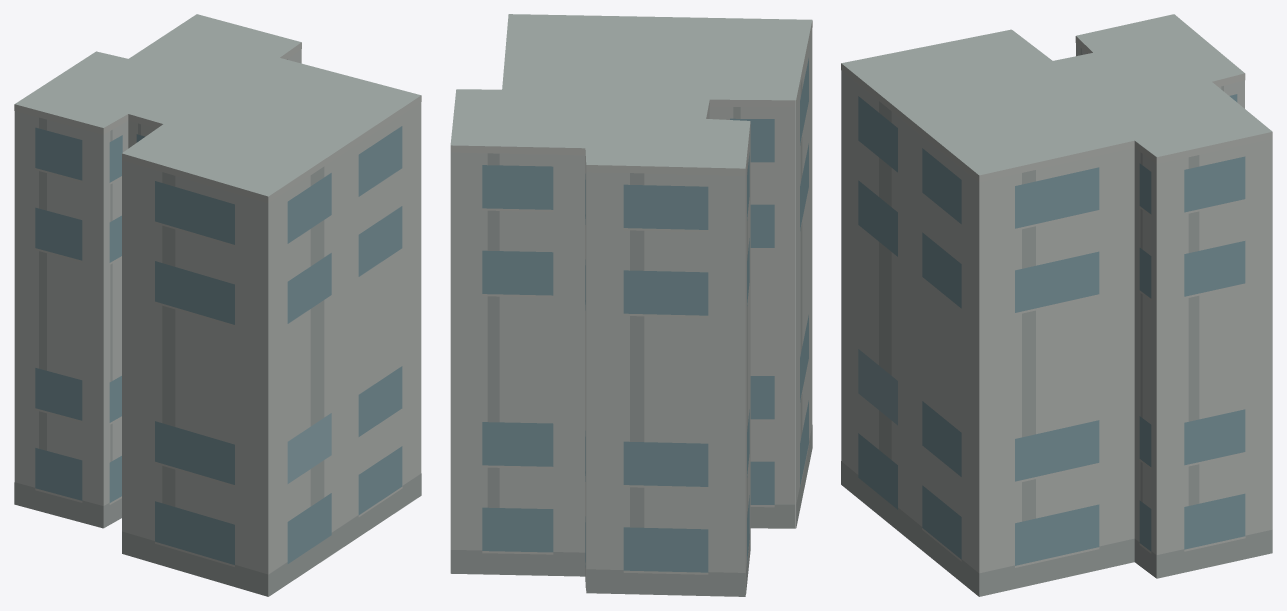
Rendered from survey-upis-32861432.glb.
3 views of the same model, side by side, from view 1: azimuth 30°, elevation 25°; view 2: azimuth 150°, elevation 25°; view 3: azimuth 270°, elevation 25° (orthographic). The views are drawn at different scales.
Visible parts, largest first — view 1: survey-upis-32861432.tmp; view 2: survey-upis-32861432.tmp; view 3: survey-upis-32861432.tmp.
Part boxes in pixels (bbox=[...]): survey-upis-32861432.tmp: bbox=[14, 14, 421, 596]; survey-upis-32861432.tmp: bbox=[450, 14, 812, 596]; survey-upis-32861432.tmp: bbox=[841, 14, 1272, 596].
Size of the model in its own units: 11.95 by 14.53 by 13.49.
